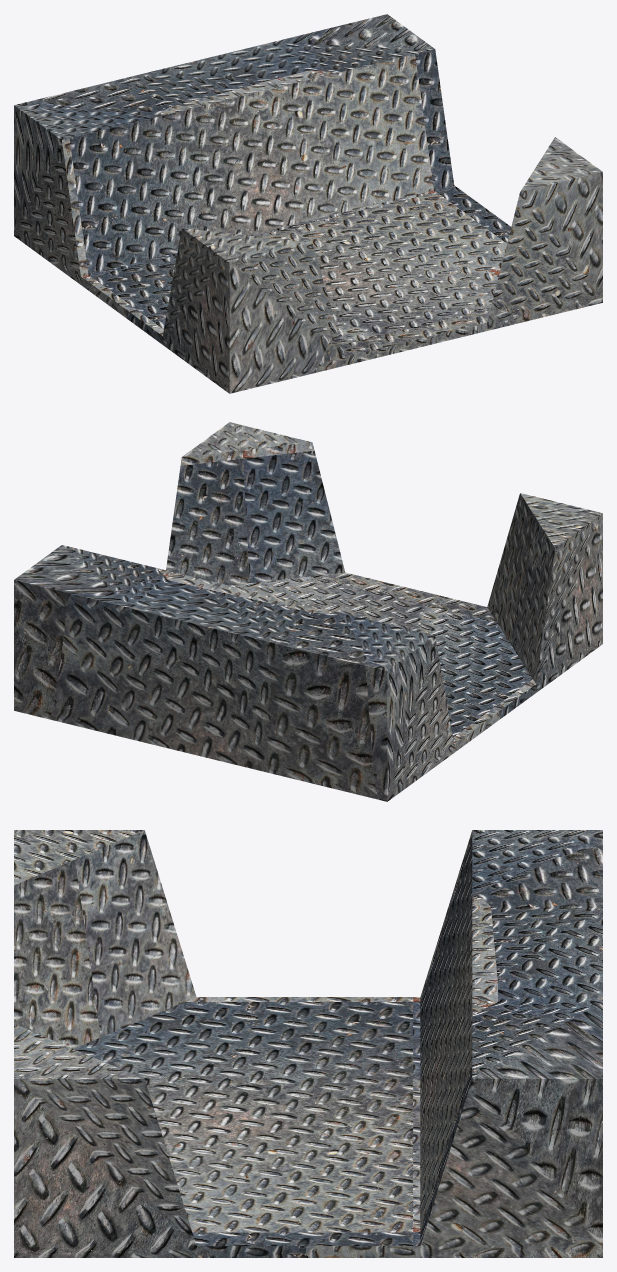
Rendered from Ventilation T.fbx.
The picture shows the model from 3 angles, top to bottom: view 1: azimuth 30°, elevation 25°; view 2: azimuth 150°, elevation 25°; view 3: azimuth 270°, elevation 25°; orthographic projection. The views are drawn at different scales.
Visible parts, largest first — view 1: Ventilation T; view 2: Ventilation T; view 3: Ventilation T.
Boxes of the visible parts, bbox=[...] form: Ventilation T: bbox=[14, 14, 602, 393]; Ventilation T: bbox=[14, 422, 602, 801]; Ventilation T: bbox=[14, 830, 602, 1257].
Size of the model in its own units: 443 by 148 by 443.
